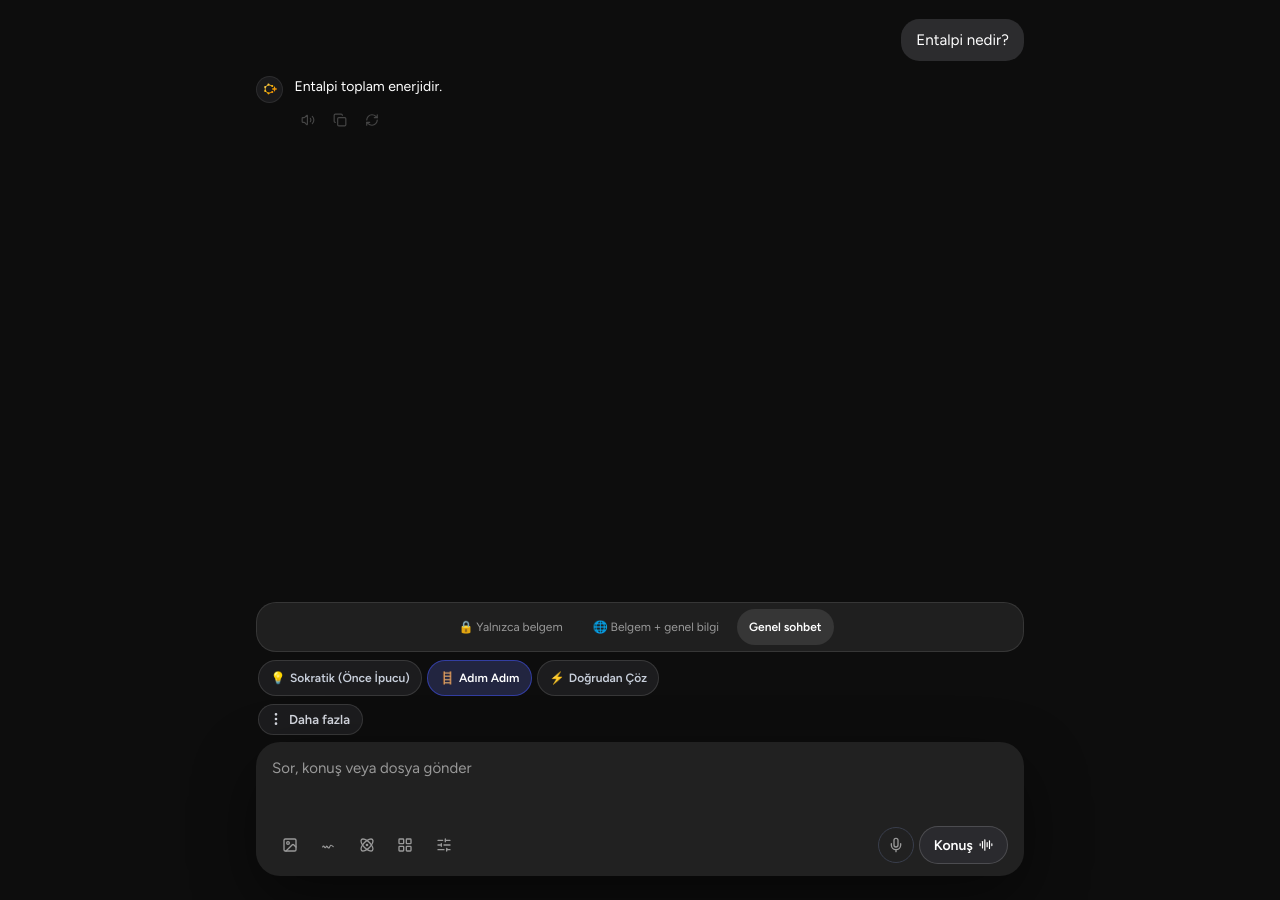
it: exam chat chrome › opens the six quick commands and shows Konuş after a reply
The width and height of the screenshot is (1280, 900).
Expected: the text "Entalpi nedir?" is shown, [901,19,1024,61]
Expected: the button "Konuş" is shown, [919,826,1008,864]
Click the button "Daha fazla" at (311, 719), box [258,704,363,735]
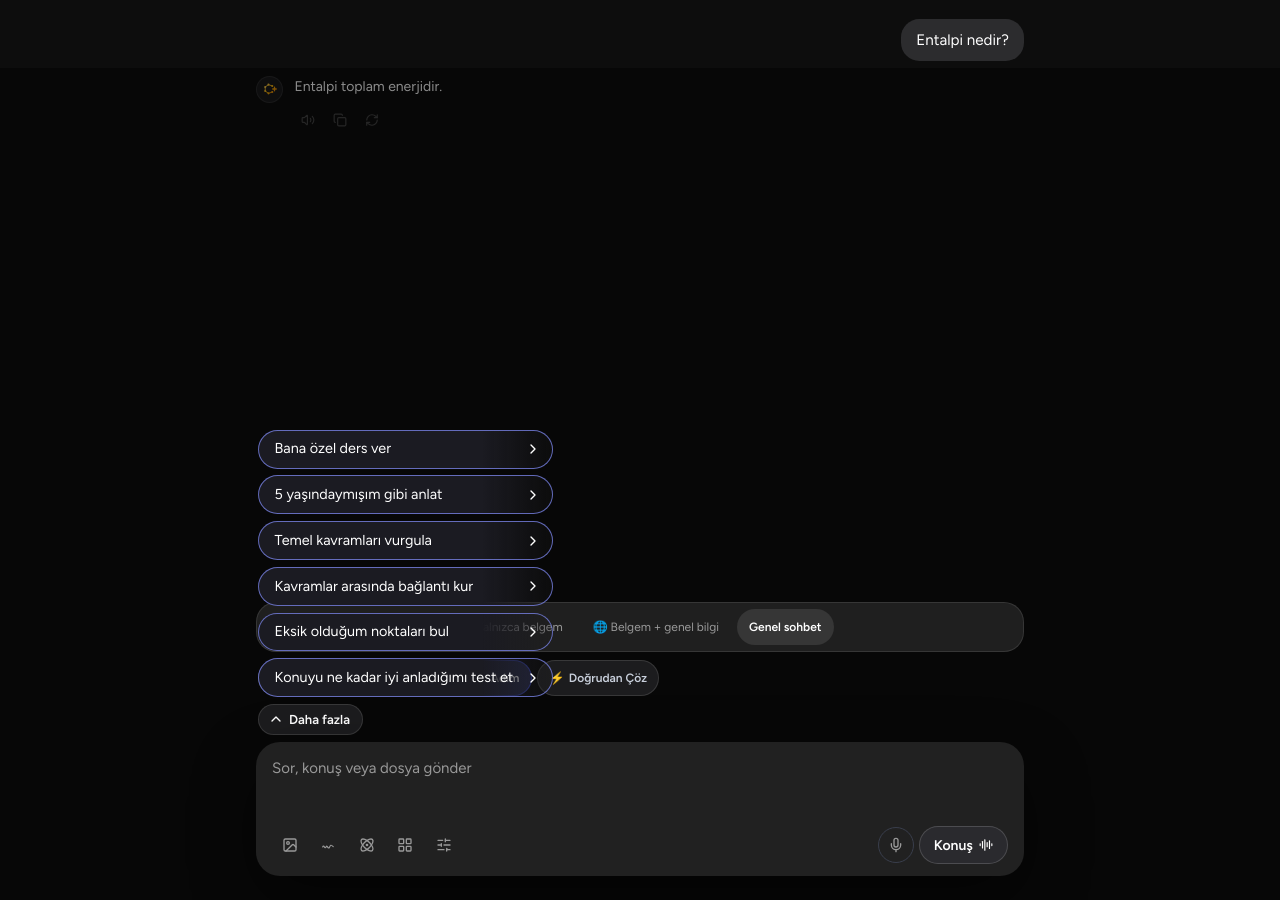
Expected: the button "Bana özel ders ver" is shown, [258,430,553,469]
Expected: the button "Konuyu ne kadar iyi anladığımı test et" is shown, [258,658,553,697]
